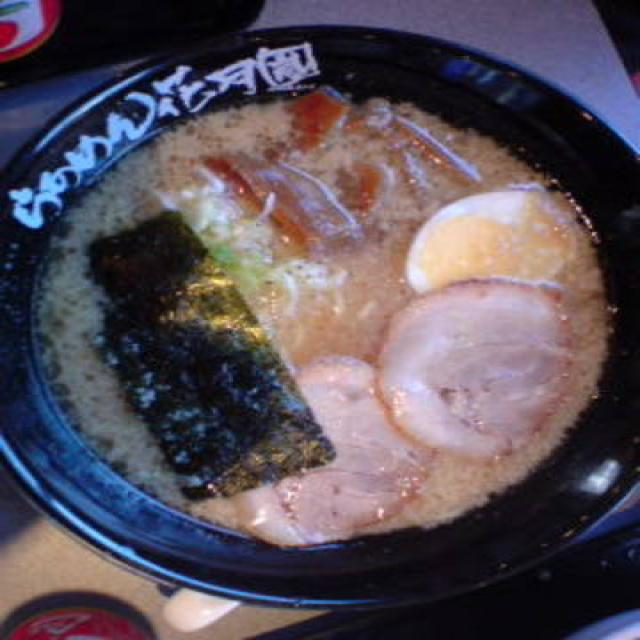面条主食: (0, 19, 640, 608)
